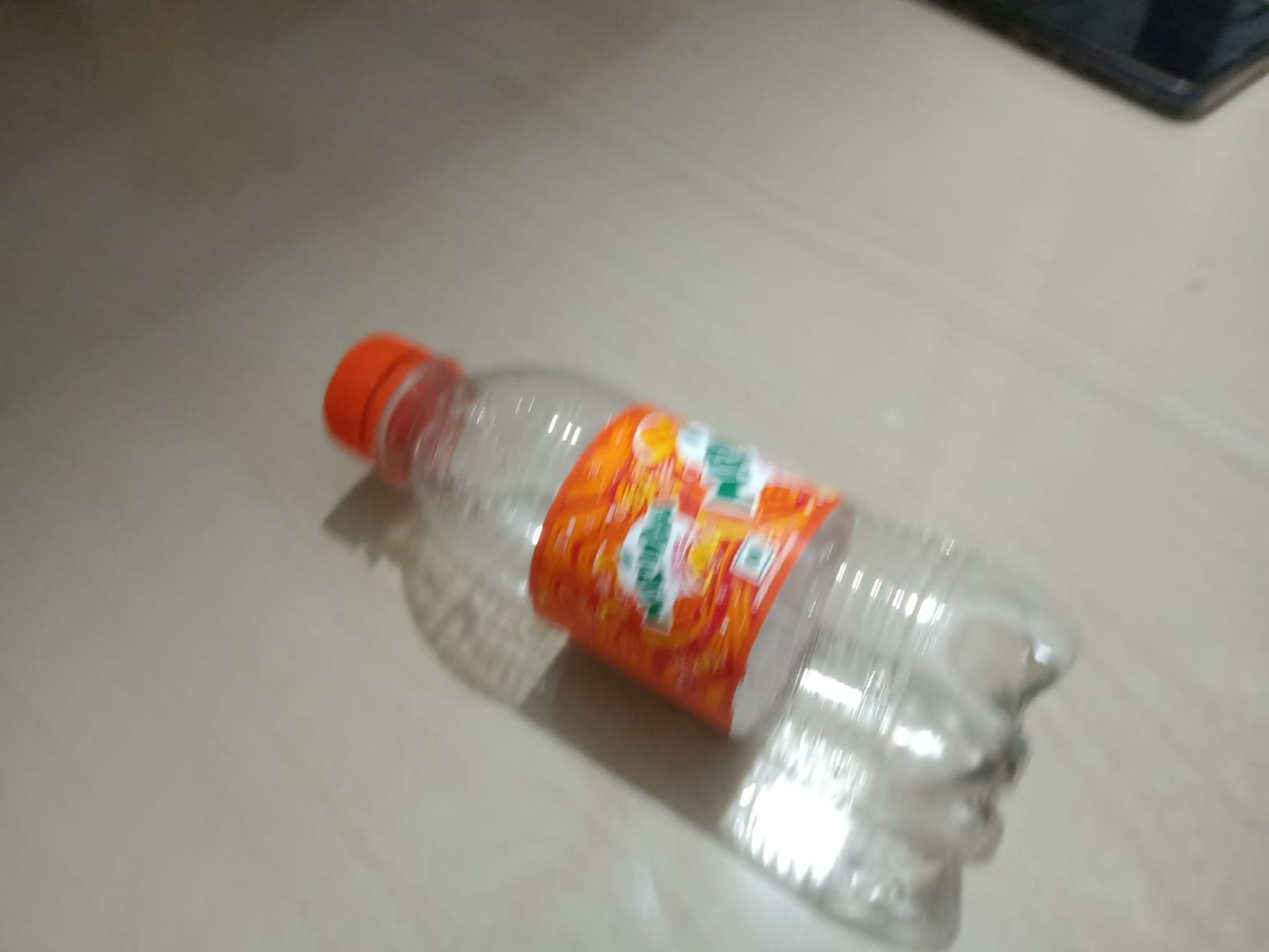plastic: (205, 316, 1064, 838)
